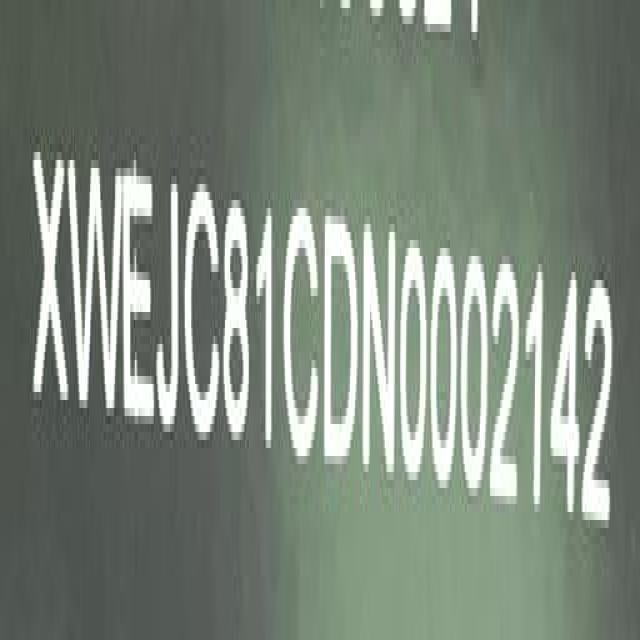0: (400, 219, 428, 498), (459, 237, 488, 495), (429, 234, 458, 489)
1: (254, 210, 278, 466), (523, 252, 546, 518)
2: (488, 246, 520, 518), (581, 264, 613, 530)
4: (549, 264, 581, 527)
8: (220, 195, 251, 438)
C: (282, 184, 321, 453), (182, 172, 220, 447)
D: (322, 199, 358, 474)
E: (121, 157, 156, 430)
J: (155, 166, 181, 444)
N: (361, 216, 397, 489)
W: (67, 134, 122, 448)
X: (32, 133, 69, 433)
